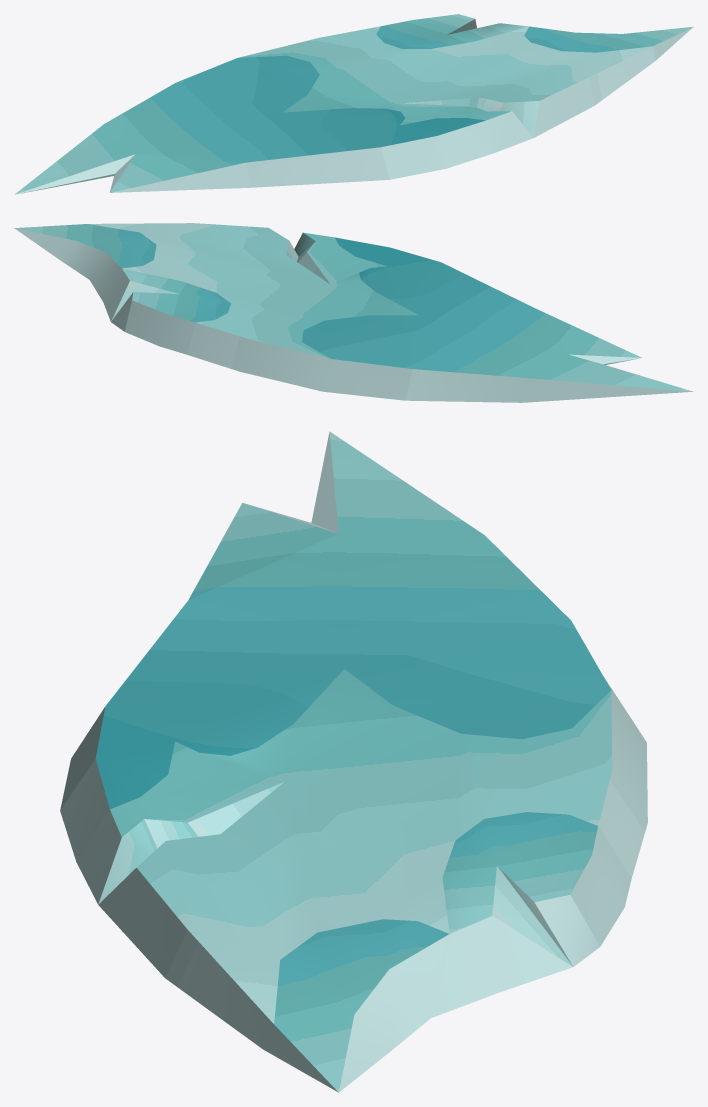
Rendered from NorthpoleBoard02.glb.
3 renders of one model, top to bottom at view 1: azimuth 30°, elevation 25°; view 2: azimuth 150°, elevation 25°; view 3: azimuth 270°, elevation 25°, orthographic. The views are drawn at different scales.
Visible parts, largest first — view 1: NorthpoleBoard02; view 2: NorthpoleBoard02; view 3: NorthpoleBoard02.
Part boxes in pixels (left/top/right/bottom): NorthpoleBoard02: left=14, top=14, right=693, bottom=194; NorthpoleBoard02: left=14, top=223, right=692, bottom=402; NorthpoleBoard02: left=60, top=431, right=647, bottom=1092.
Size of the model in its own units: 11.46 by 0.4324 by 4.3.
1 material, 1 textured.
